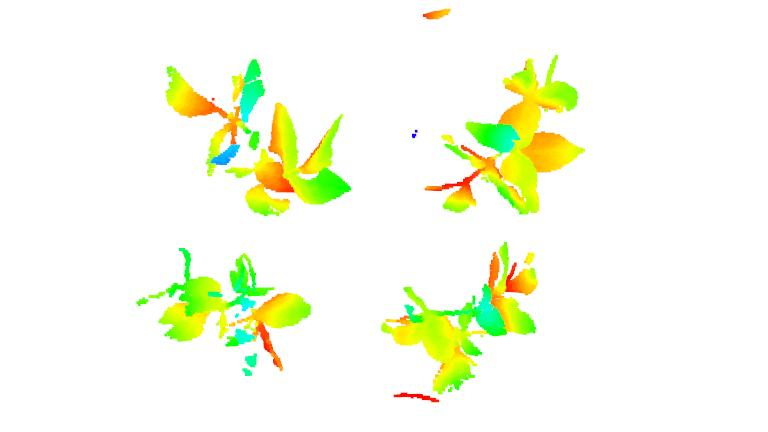mungbean: (151, 57, 354, 221), (423, 55, 589, 223), (377, 246, 545, 403), (133, 244, 317, 378)
